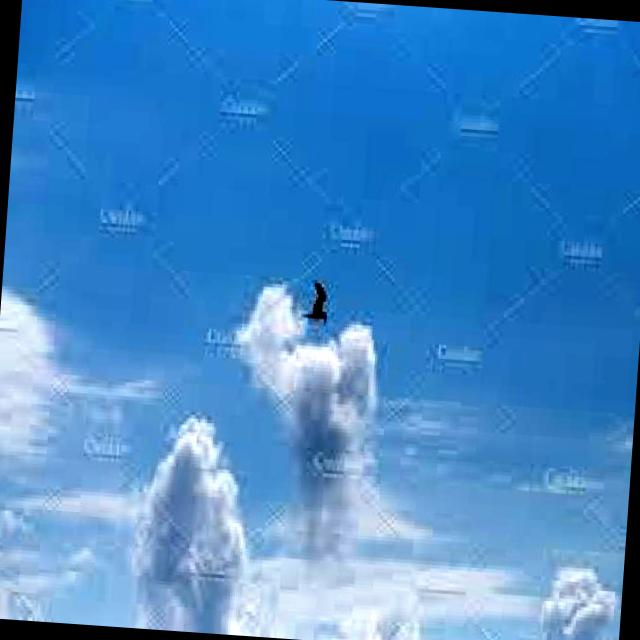bird: (304, 274, 336, 326)
